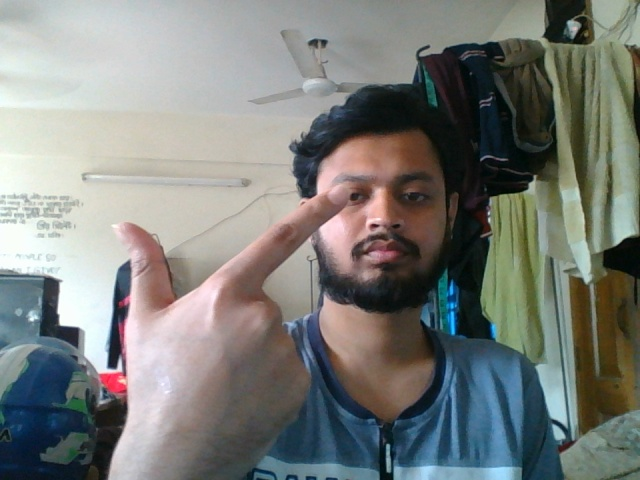tho: (93, 182, 355, 459)
